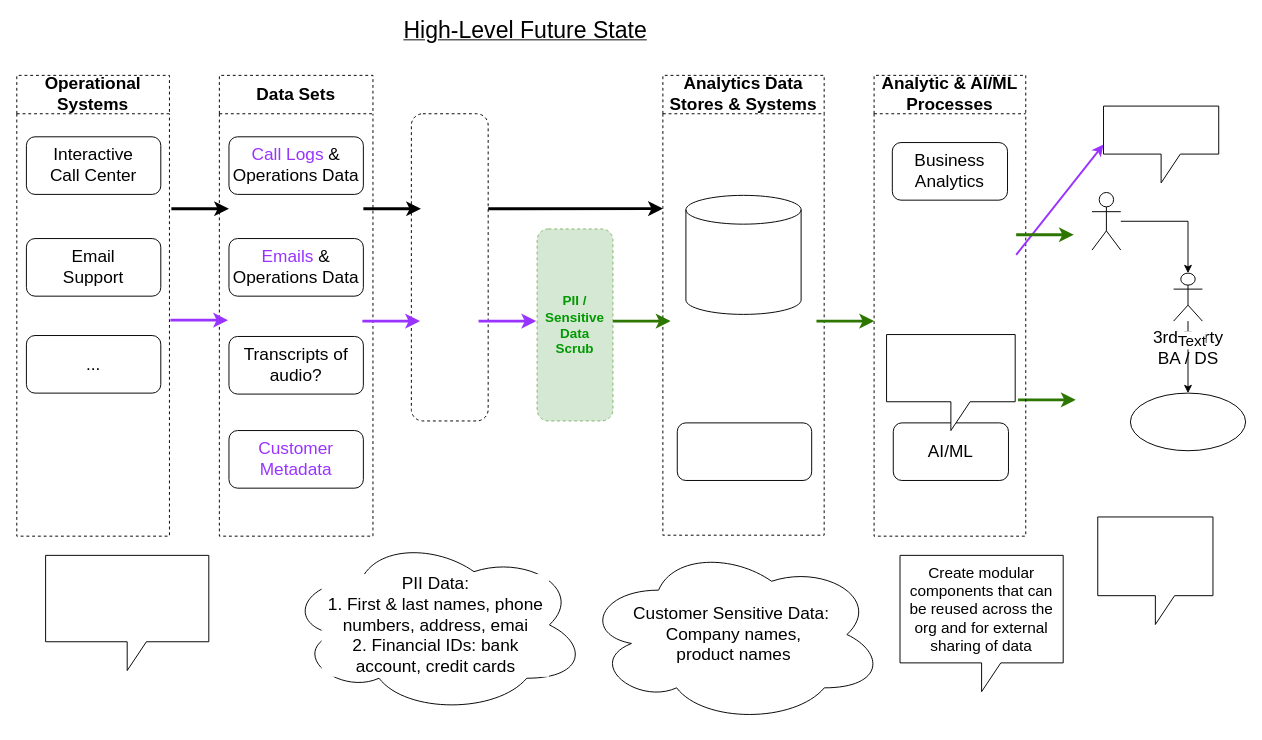
Image size: 1262x740. Some labels were removed from this diagram. Here are the shapes that lost their labels. From the top down, the centre of each, then its label:
At point 1161,144: "Revert to Original".
At point 1106,221: "In-House BA / DS".
At point 449,267: "Extract Transform & Load (ETL)".
At point 743,254: "Scrubbed & Ops Data".
At point 950,382: "Develop predictive models".
At point 1187,421: "Support".
At point 744,451: "AI/ML Tools & Infra.".
At point 1155,570: "BEWARE OF SHADOW IT IF AI/ML Tools".
At point 127,612: "Be able to understand migration and costs for moving to the cloud".
